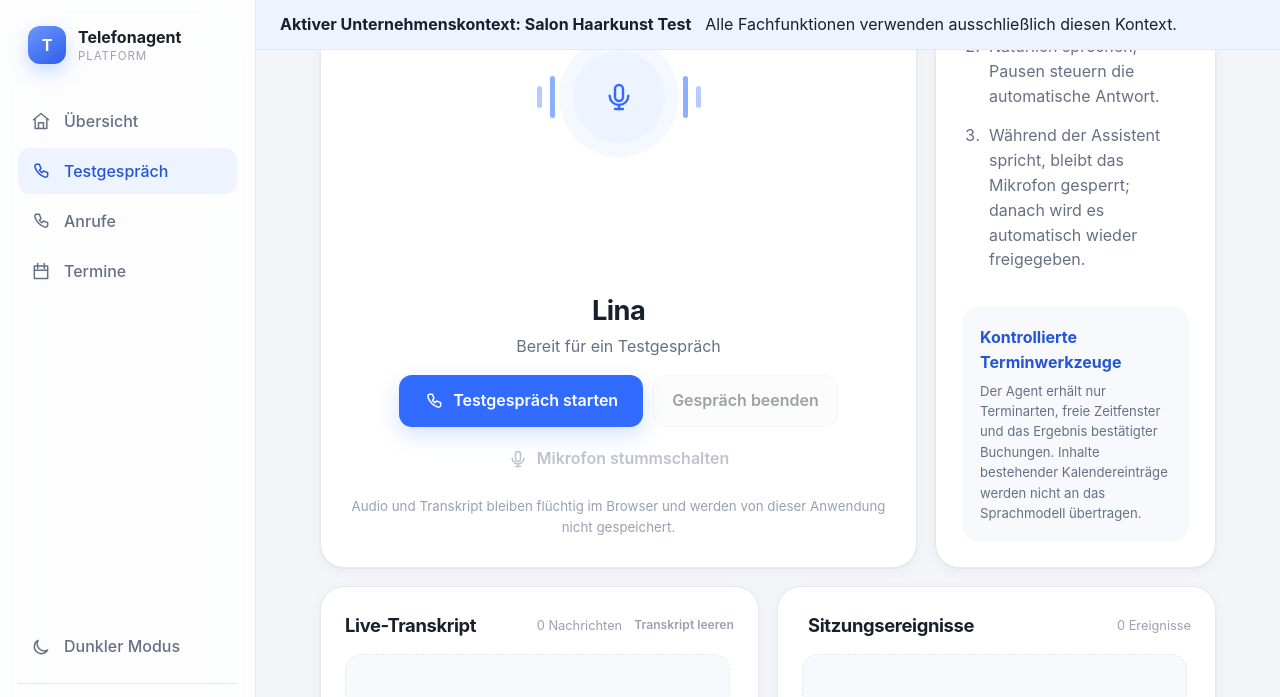
Test case: Realtime browser voice flow › erklärt den Mikrofonfehler NotReadableError
The image size is (1280, 697).
(page scrolled)
Click the button "Testgespräch starten": point(521, 401) [399,375,643,427]
(page scrolled)
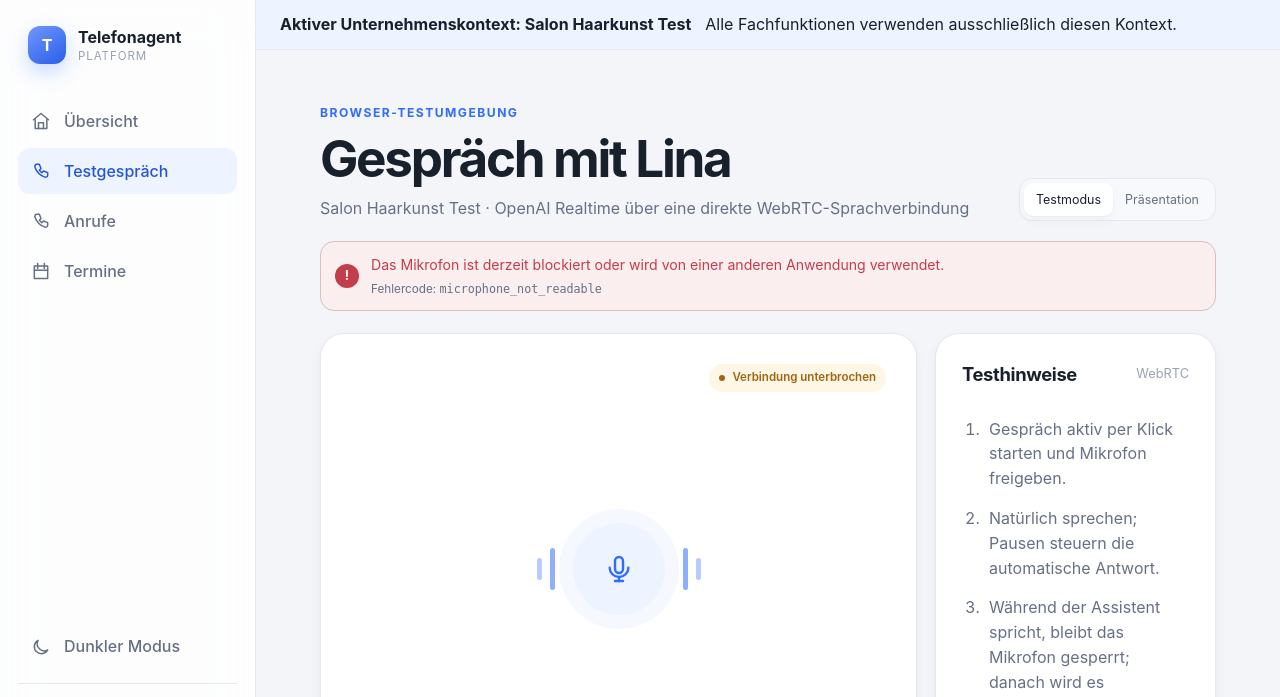
Result: the message shows "blockiert oder wird von einer anderen Anwendung verwendet" at [371,256,944,273]
